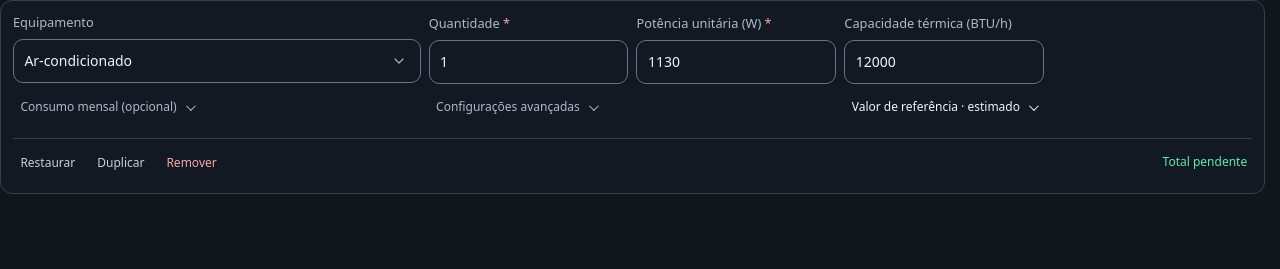
Test: changing thermal capacity invalidates a model suggestion instead of converting to electrical watts
Replace the text in the number field labelled "Capacidade térmica (BTU/h)" with "24000": (944, 62) x1=844 y1=40 x2=1044 y2=84
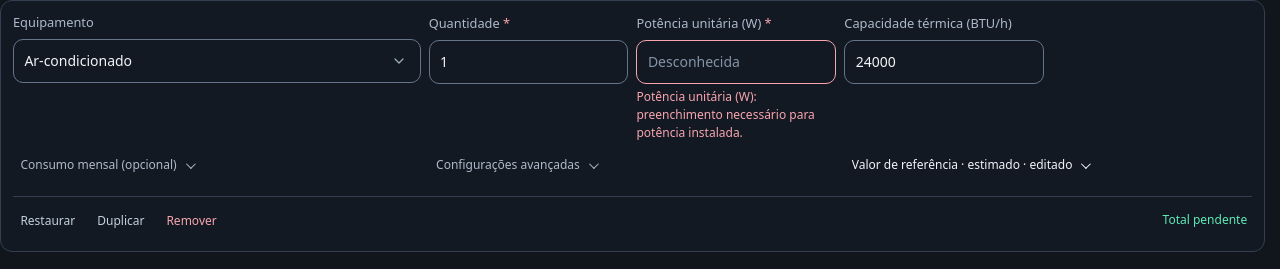
Expected: the number field labelled "Potência unitária (W)" is not empty, x1=636 y1=40 x2=836 y2=84
